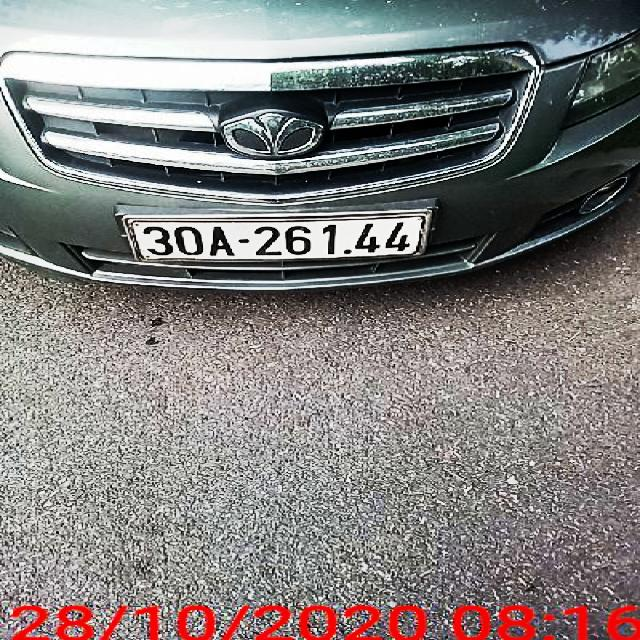license_plate: (132, 215, 425, 263)
